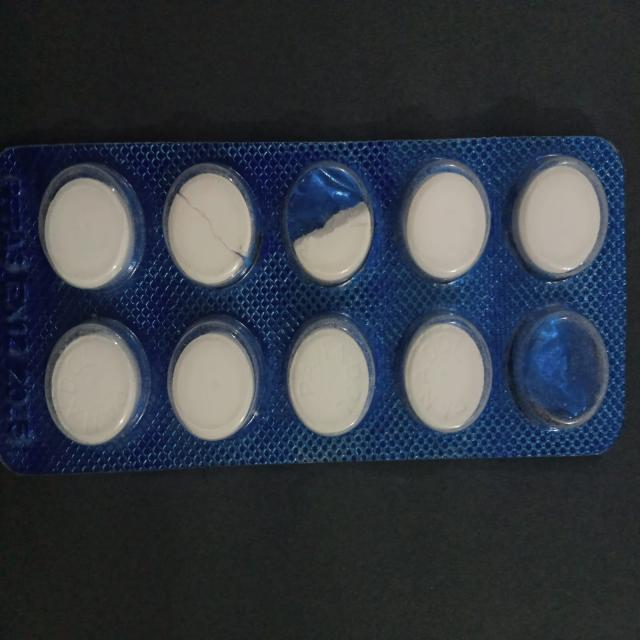defect: (507, 301, 613, 440), (159, 161, 267, 294), (279, 157, 379, 293)
